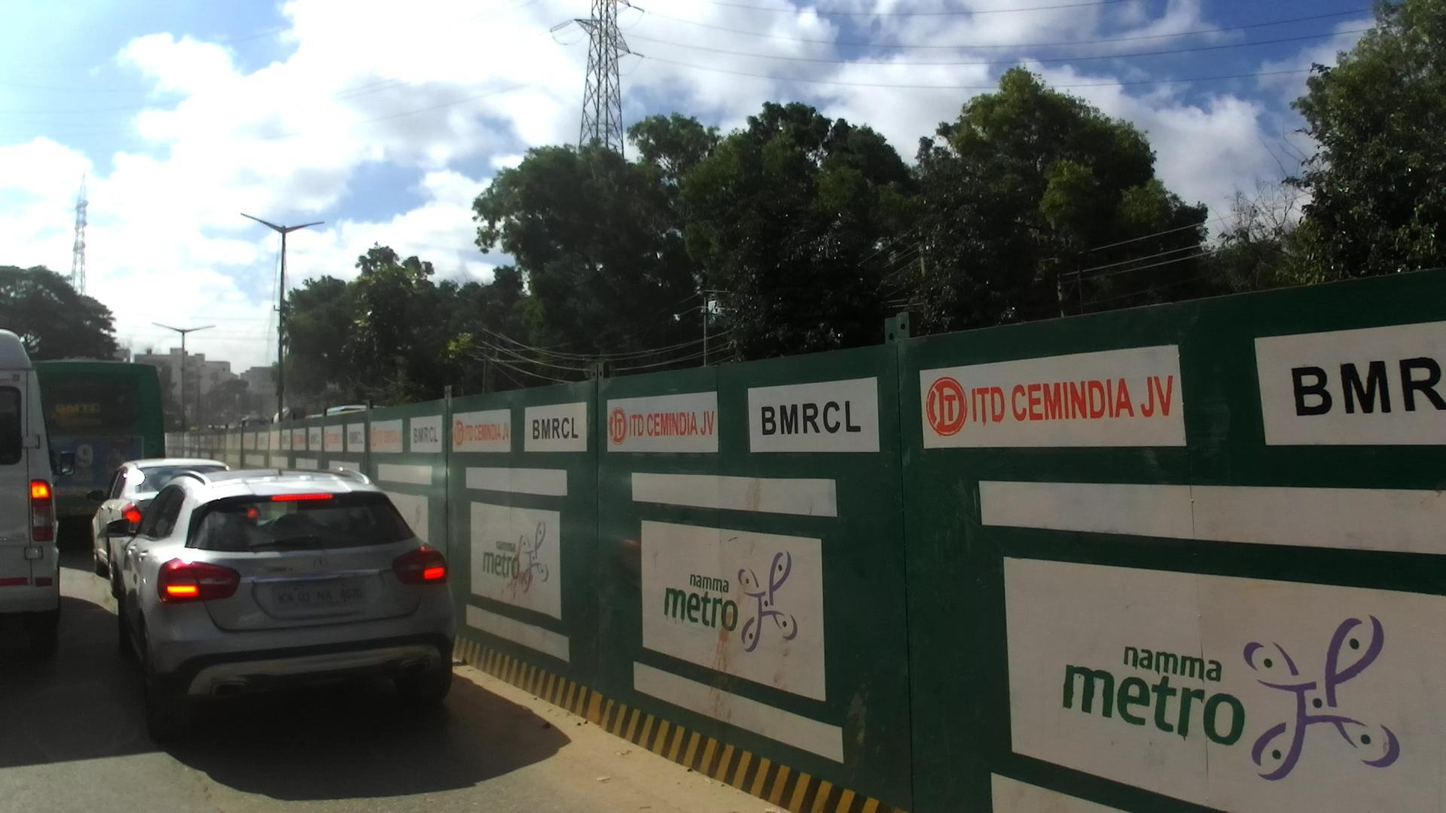streetlight: (239, 212, 285, 235), (281, 221, 324, 235), (151, 322, 186, 335), (182, 325, 215, 335)
